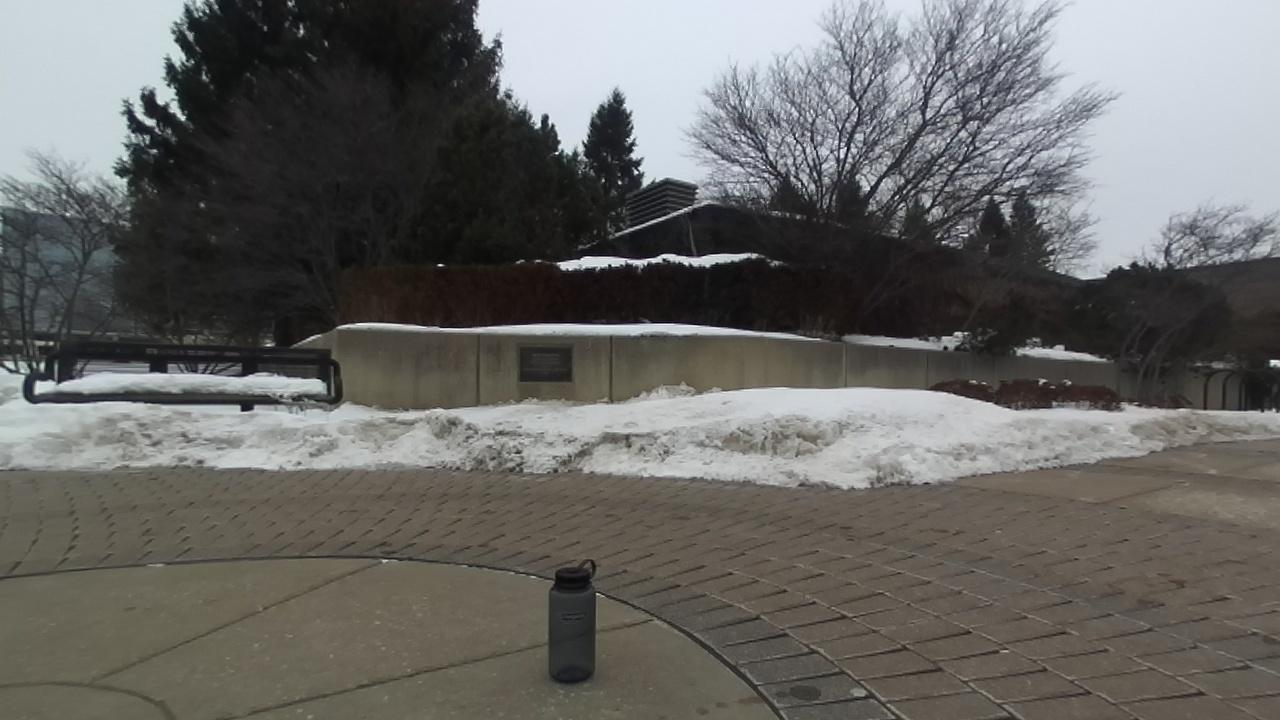bottle: (549, 559, 594, 682)
